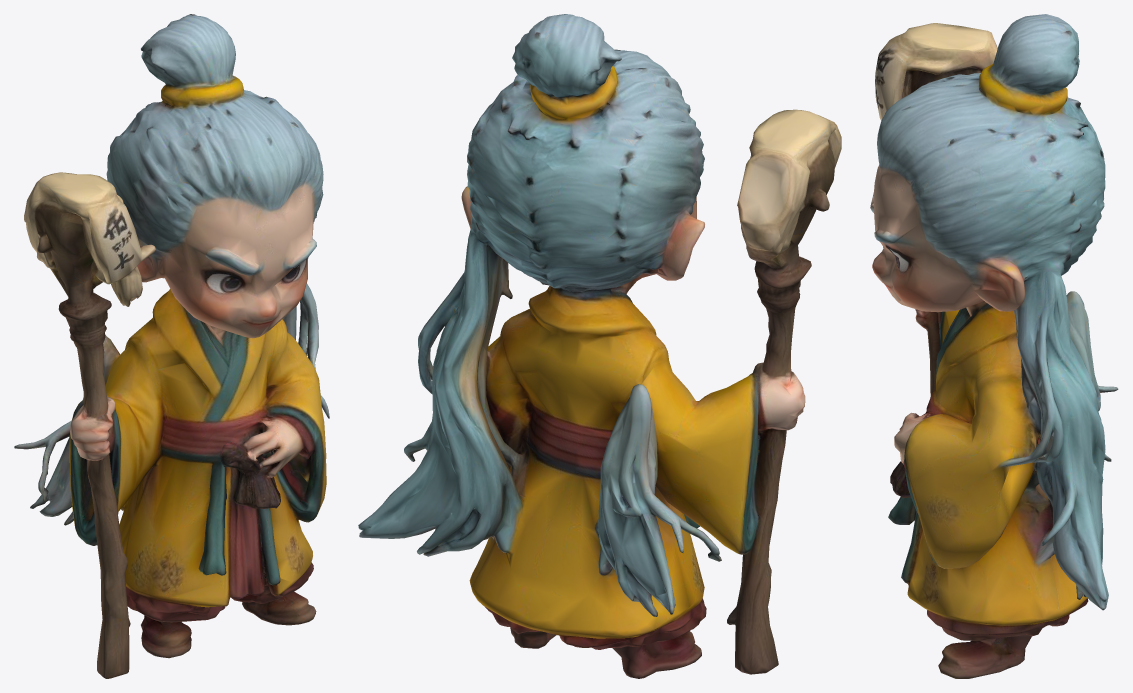
Rendered from zhangjiao.glb.
3 renders of one model, left to right at view 1: azimuth 30°, elevation 25°; view 2: azimuth 150°, elevation 25°; view 3: azimuth 270°, elevation 25°, orthographic. The views are drawn at different scales.
Size of the model in its own units: 1.26 by 2 by 0.7254.
Materials: 1 (1 with a texture image).
